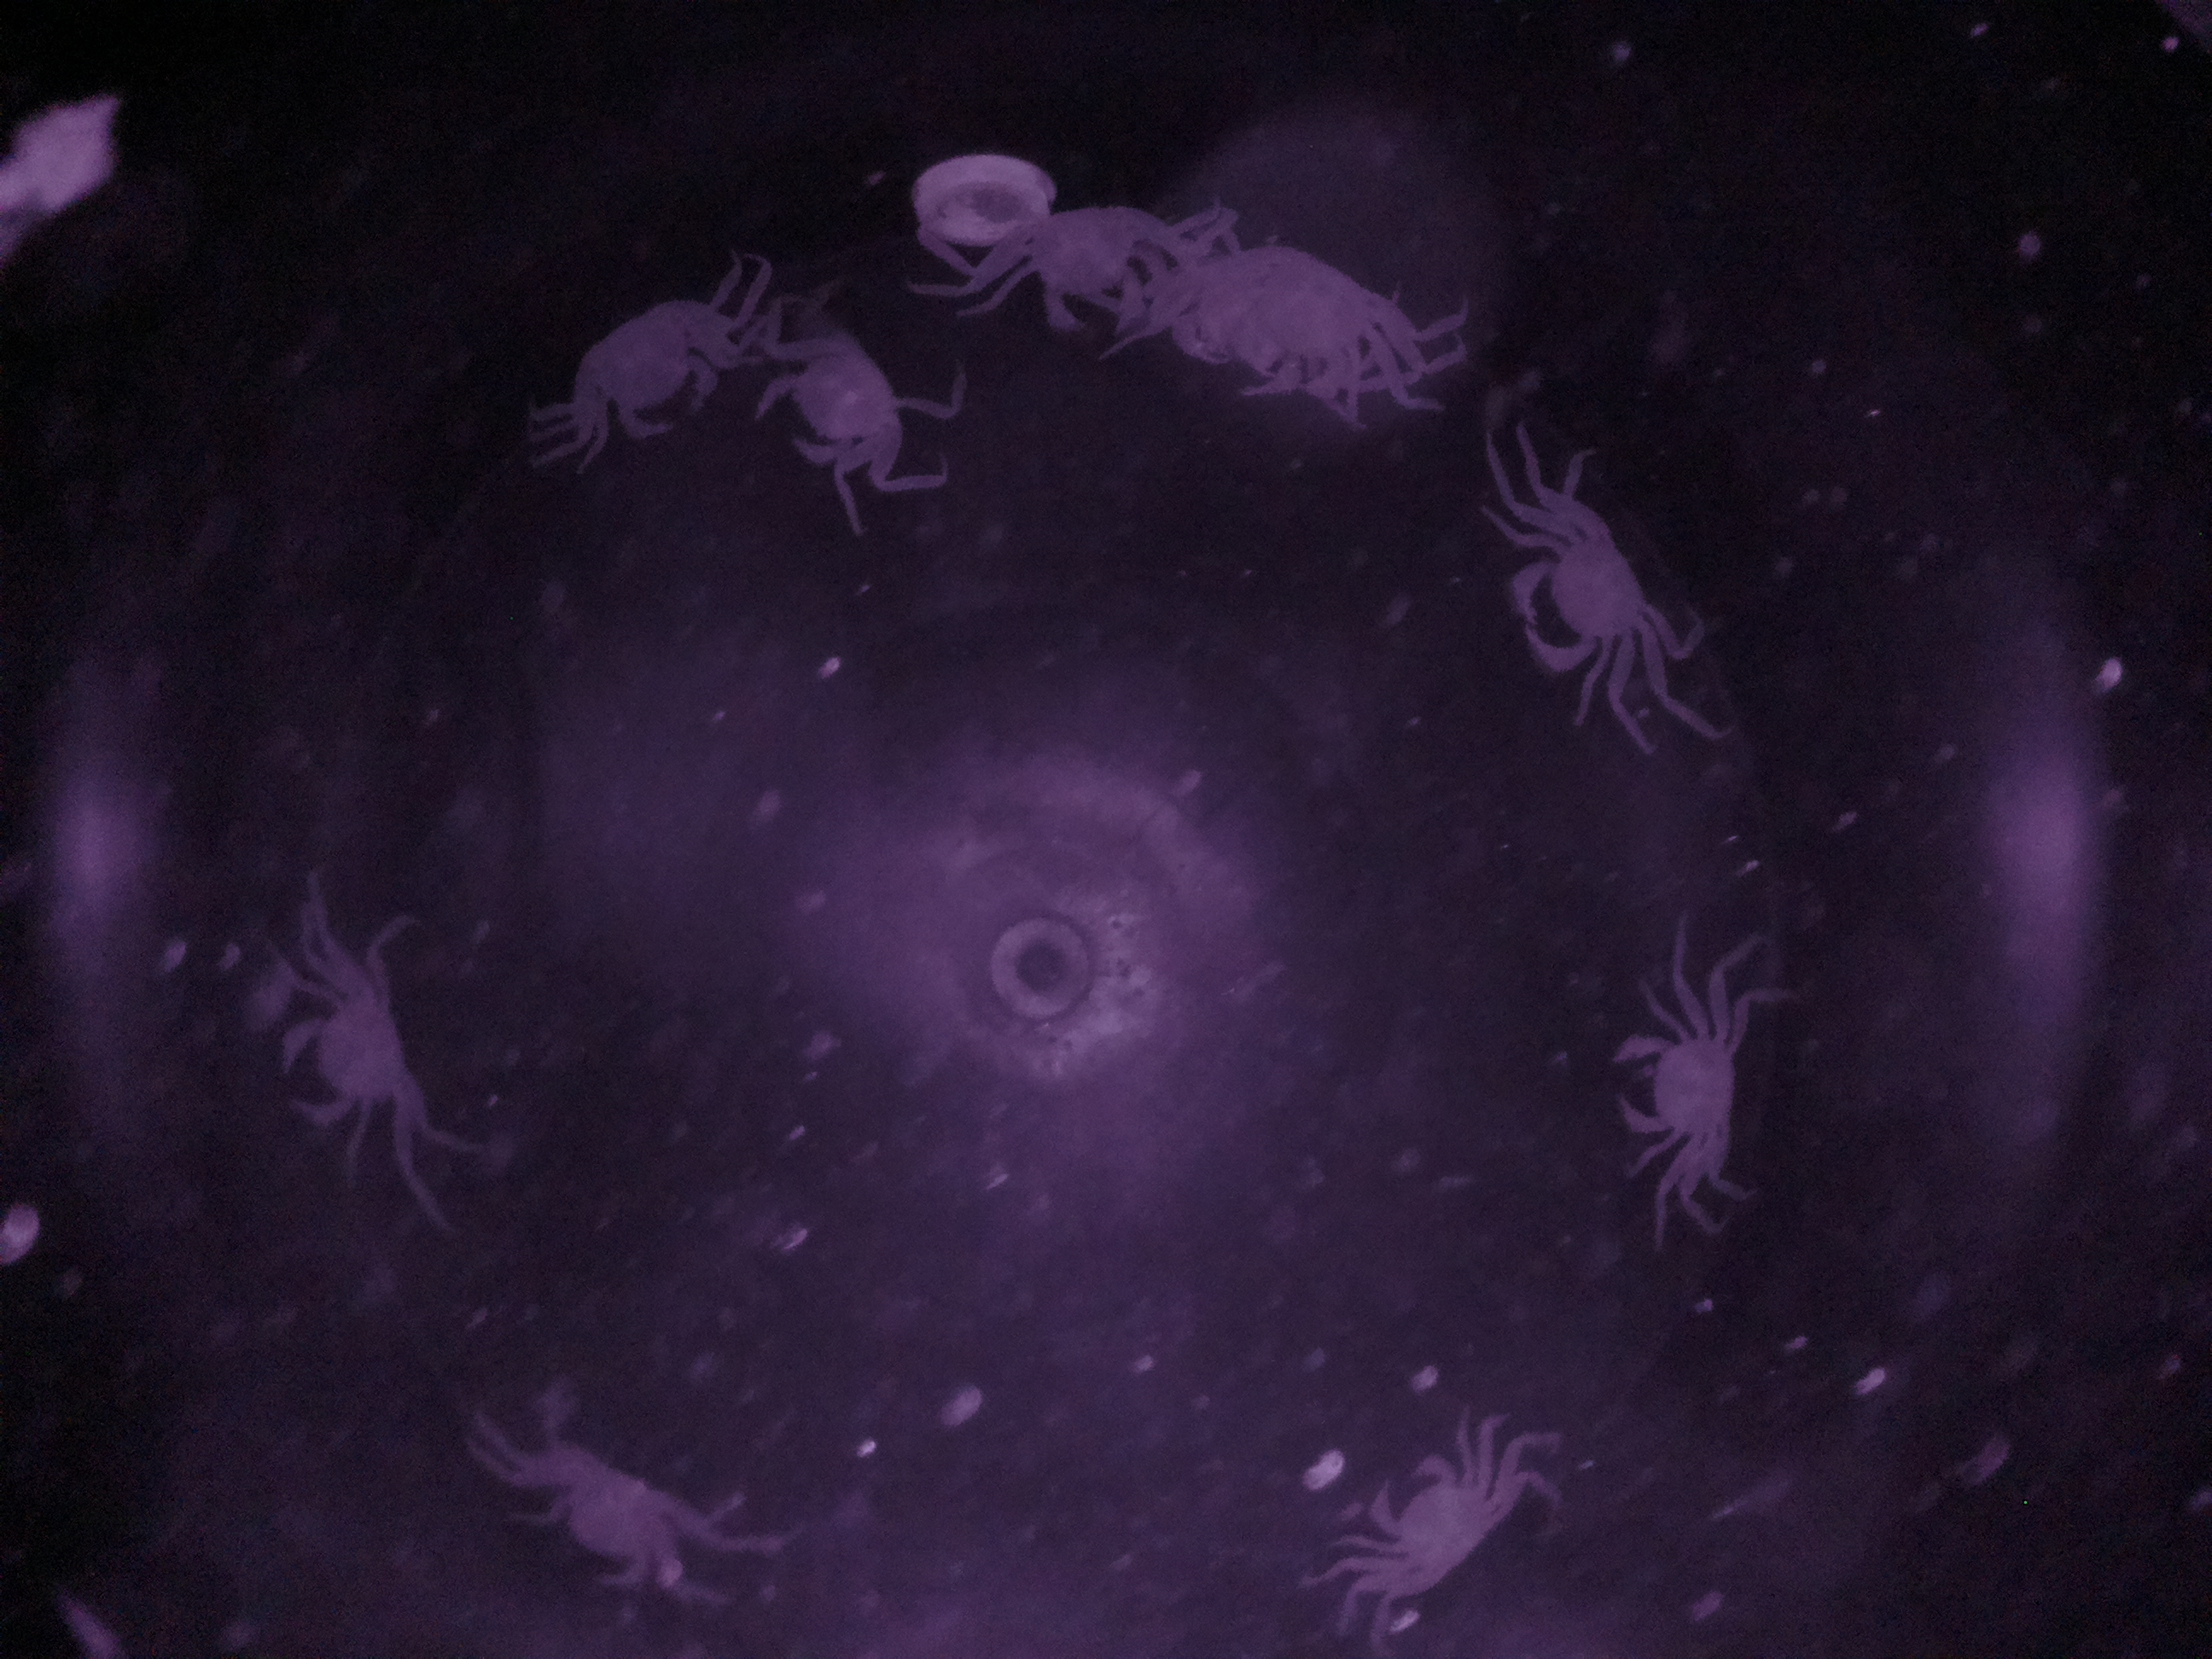Crab: (260, 931, 442, 1162), (1346, 1410, 1538, 1622), (1498, 490, 1679, 711), (733, 310, 942, 491), (564, 249, 737, 460), (1599, 995, 1777, 1188)
